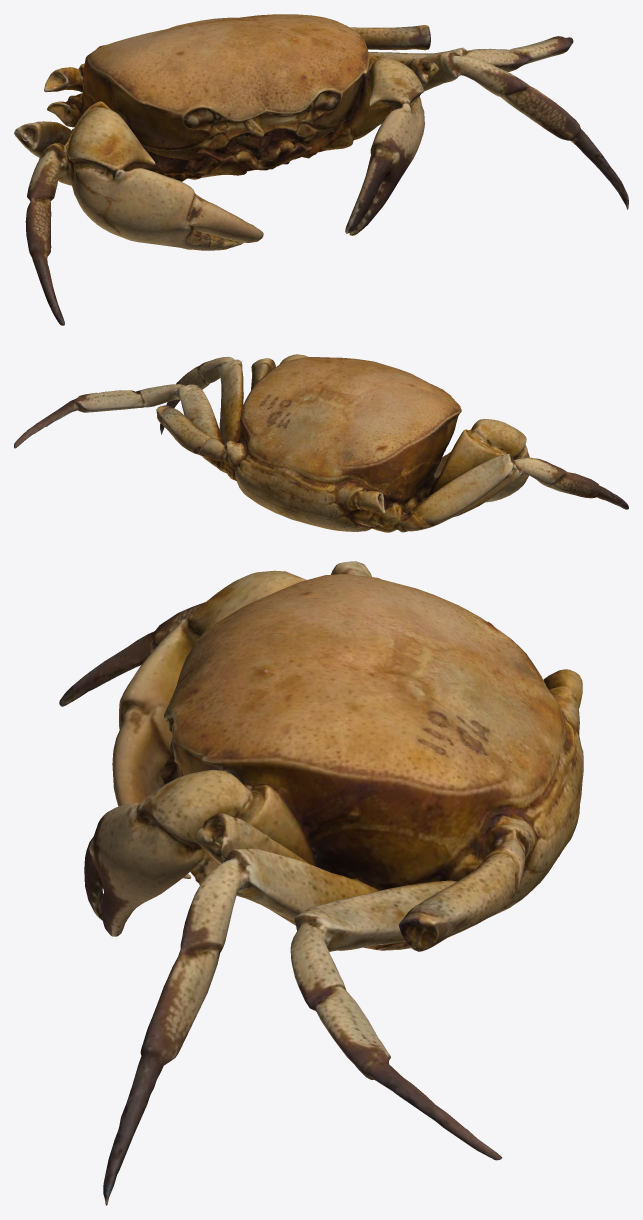
Rendered from river-crab.glb.
The picture shows the model from 3 angles, top to bottom: view 1: azimuth 30°, elevation 25°; view 2: azimuth 150°, elevation 25°; view 3: azimuth 270°, elevation 25°; orthographic projection. The views are drawn at different scales.
Parts seen in each view (by area): view 1: Trichodactylus_crassus-unwrapped-webmulti; view 2: Trichodactylus_crassus-unwrapped-webmulti; view 3: Trichodactylus_crassus-unwrapped-webmulti.
Boxes of the visible parts, x1=… form: Trichodactylus_crassus-unwrapped-webmulti: x1=14, y1=14, x2=628, y2=325; Trichodactylus_crassus-unwrapped-webmulti: x1=14, y1=354, x2=628, y2=532; Trichodactylus_crassus-unwrapped-webmulti: x1=59, y1=561, x2=583, y2=1205.
Size of the model in its own units: 0.0783 by 0.024 by 0.035.
Materials: 1 (1 with a texture image).
